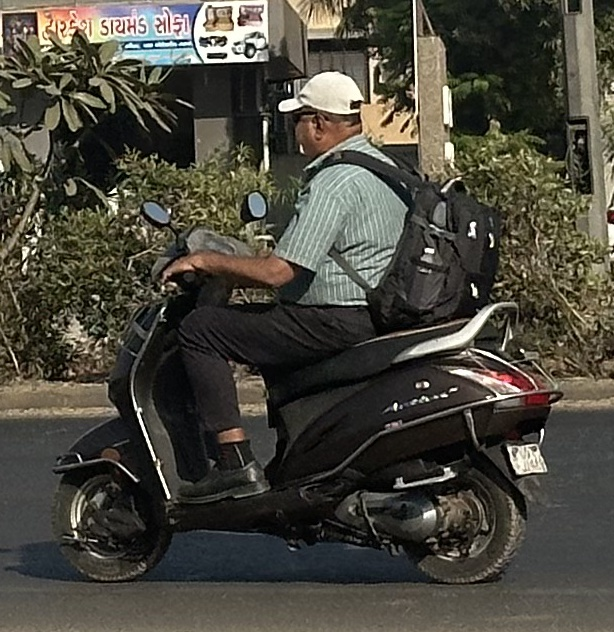BikeWithRider: (39, 60, 571, 592)
NoHelmet: (274, 64, 375, 161)
